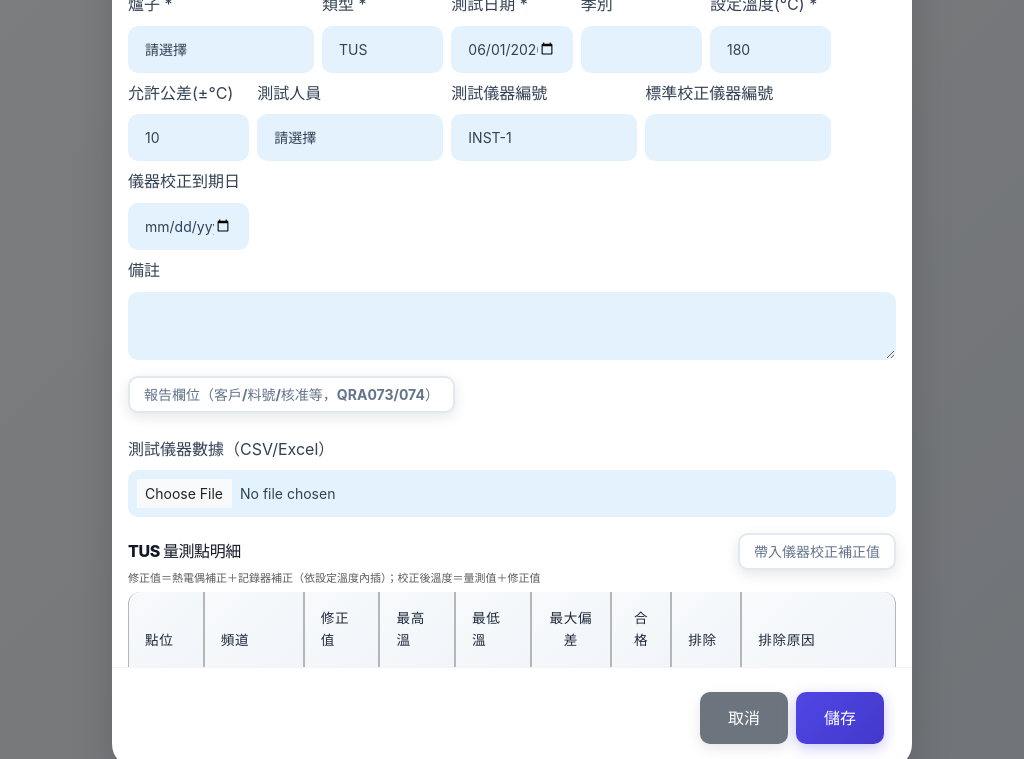
Scenario: PyrometryTestForm › blocks save when an excluded measurement point is missing a reason
(page scrolled)
Expected: the date field showing "2026-06-01" below "測試日期 *" is shown, [451,26,573,73]
Click the button "儲存" at (840,718), box [796,692,884,744]
(page scrolled)
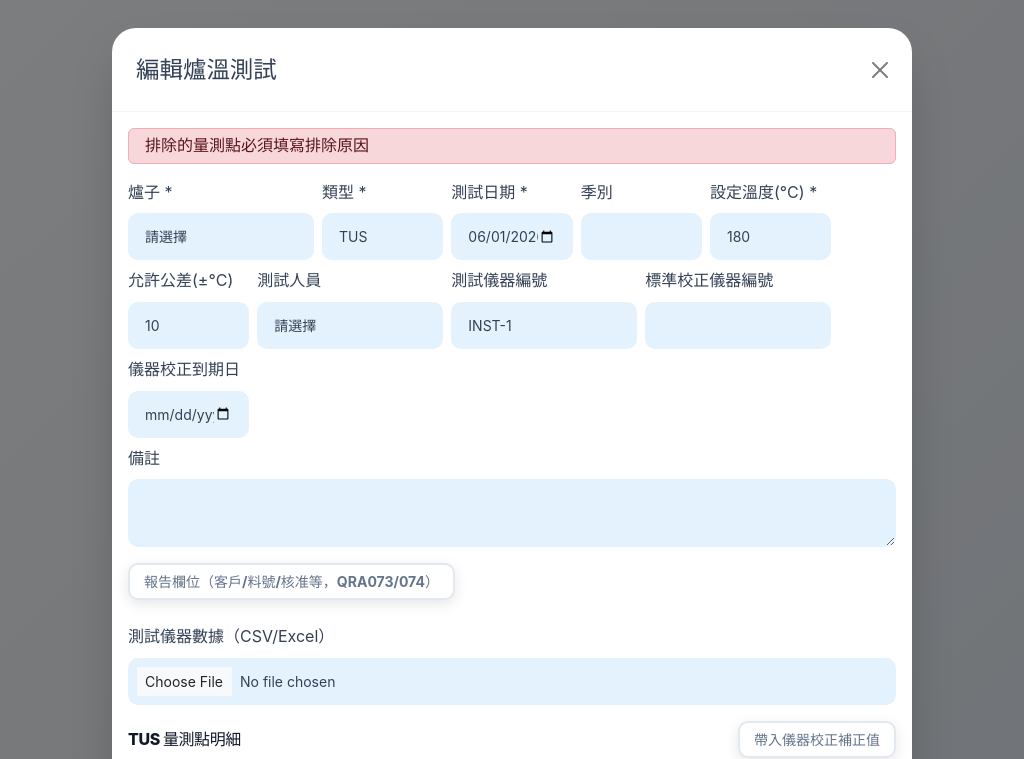
Now the text "排除的量測點必須填寫排除原因" is shown, box [128,128,896,164]
